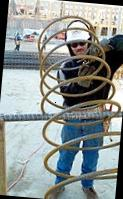wear: (64, 18, 91, 45)
